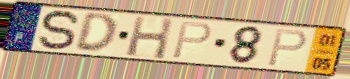8: (225, 25, 266, 66)
D: (72, 13, 119, 55)
H: (125, 15, 176, 61)
P: (170, 20, 214, 61), (265, 28, 310, 68)
S: (37, 9, 82, 52)
